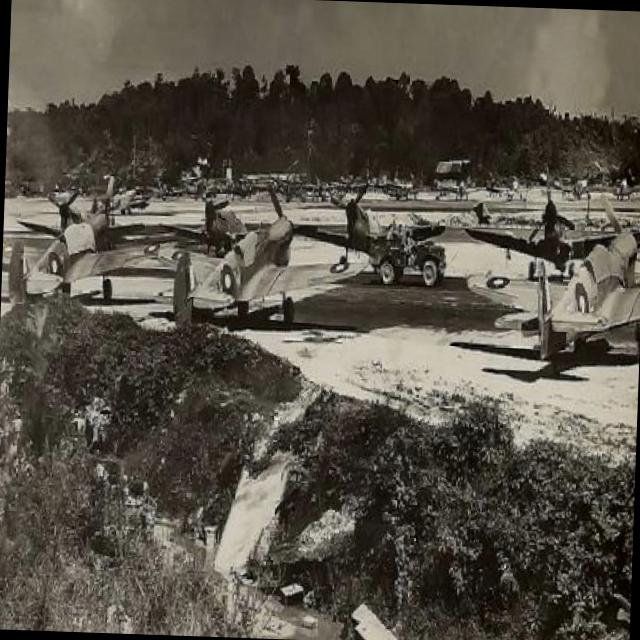Person: (399, 222, 415, 267), (406, 229, 418, 251)
